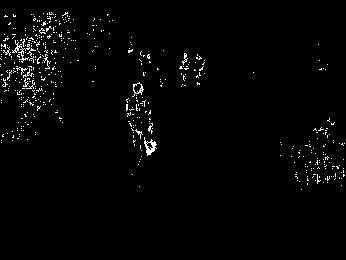person: (124, 82, 156, 158)
